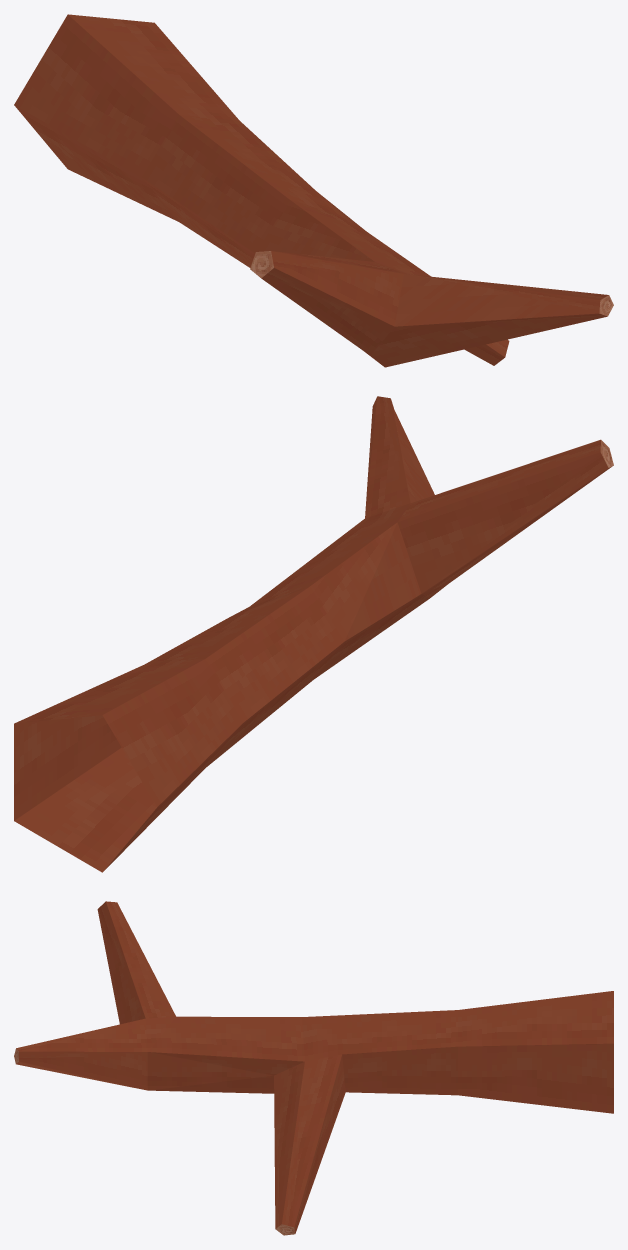
File: SM_AP_Tree_Trunk_0.glb
3 views of the same model, one above another, from view 1: azimuth 30°, elevation 25°; view 2: azimuth 150°, elevation 25°; view 3: azimuth 270°, elevation 25° (orthographic). The views are drawn at different scales.
Visible parts, largest first — view 1: SM_AP_Tree_Trunk_0; view 2: SM_AP_Tree_Trunk_0; view 3: SM_AP_Tree_Trunk_0.
Boxes of the visible parts, left/top/right/bottom form: SM_AP_Tree_Trunk_0: left=14, top=14, right=613, bottom=367; SM_AP_Tree_Trunk_0: left=14, top=396, right=613, bottom=872; SM_AP_Tree_Trunk_0: left=14, top=901, right=613, bottom=1235.
Bounding box in the file's own units: 8.09 × 5.97 × 15.39.
Materials: 1 (1 with a texture image).
